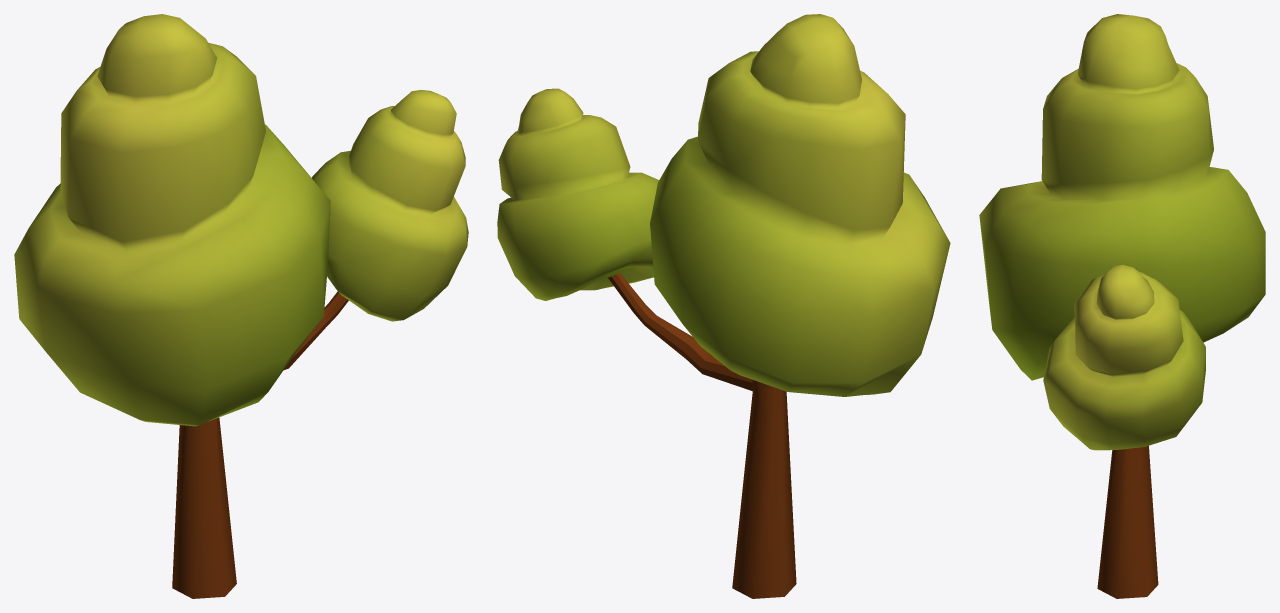
File: SM_Tree_32.fbx
3 views of the same model, side by side, from view 1: azimuth 30°, elevation 25°; view 2: azimuth 150°, elevation 25°; view 3: azimuth 270°, elevation 25° (orthographic). The views are drawn at different scales.
Parts seen in each view (by area): view 1: SM_Tree_32; view 2: SM_Tree_32; view 3: SM_Tree_32.
Part boxes in pixels (x1,y1,x2,y2): SM_Tree_32: (14, 14, 468, 598); SM_Tree_32: (497, 14, 950, 598); SM_Tree_32: (979, 14, 1265, 598).
Size of the model in its own units: 639 by 830 by 394.
